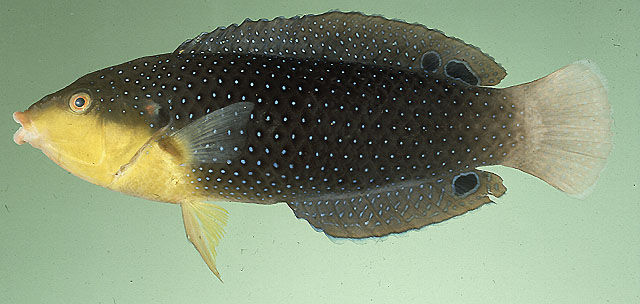fish: (13, 11, 613, 283)
